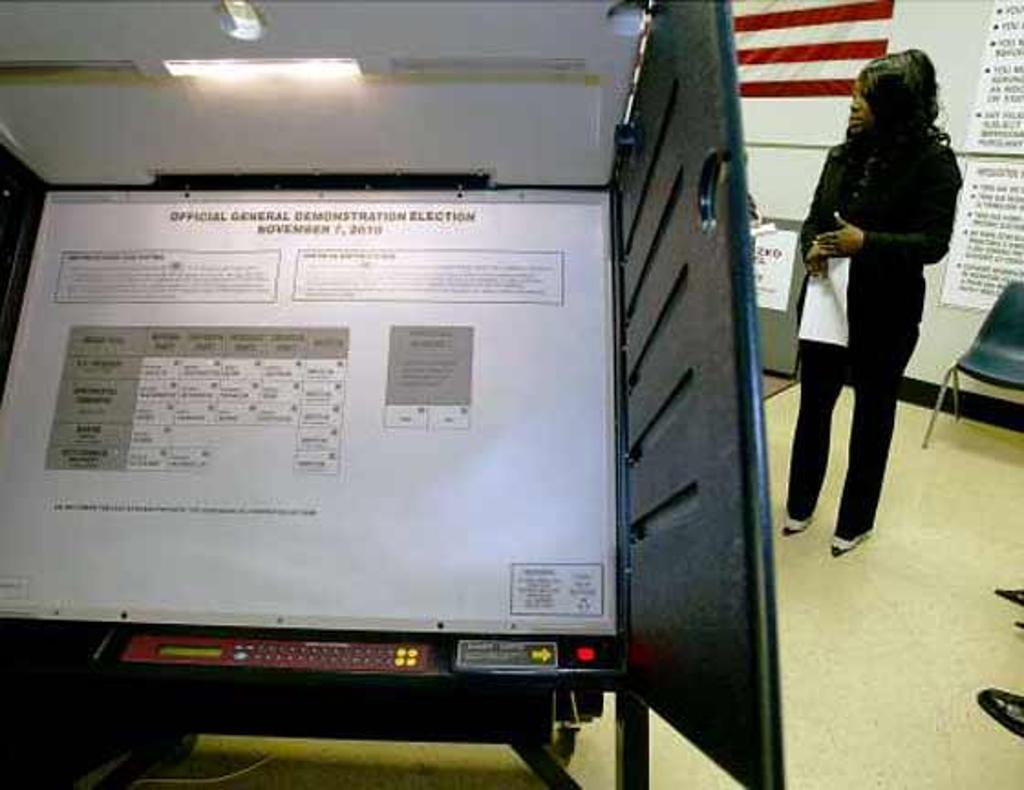face: (850, 78, 884, 137)
